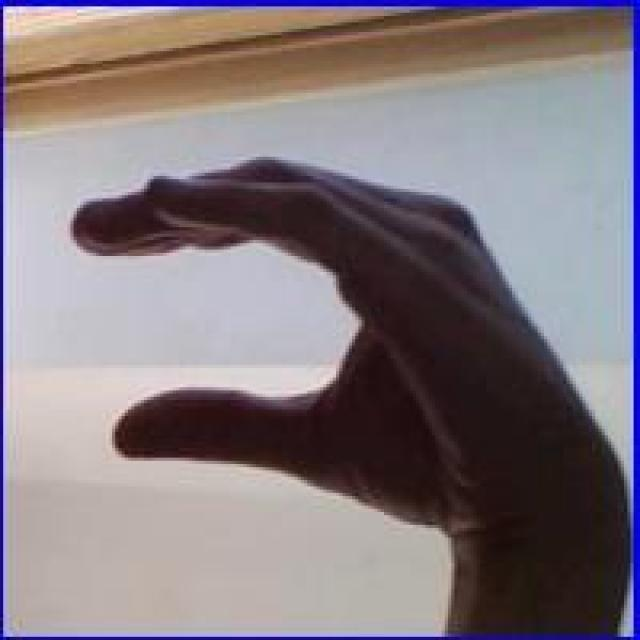C: (66, 144, 594, 512)
